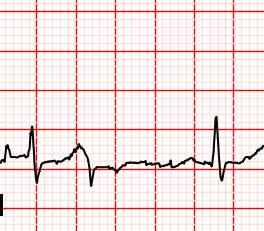Pathological Q Wave: (23, 154, 48, 187)
Poor R Progression: (23, 125, 42, 157)
